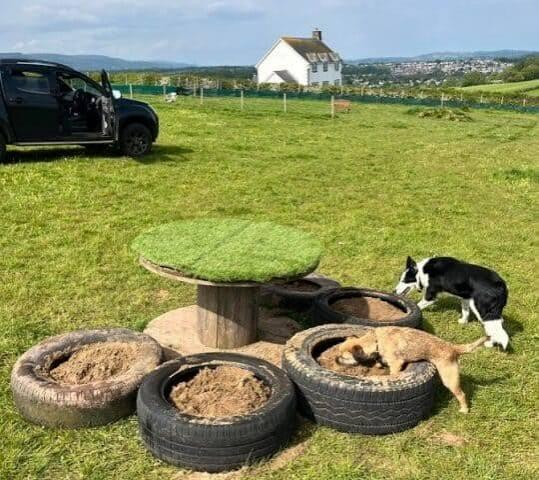adult_dog: (391, 252, 512, 354)
puppy-dog: (335, 325, 470, 414)
